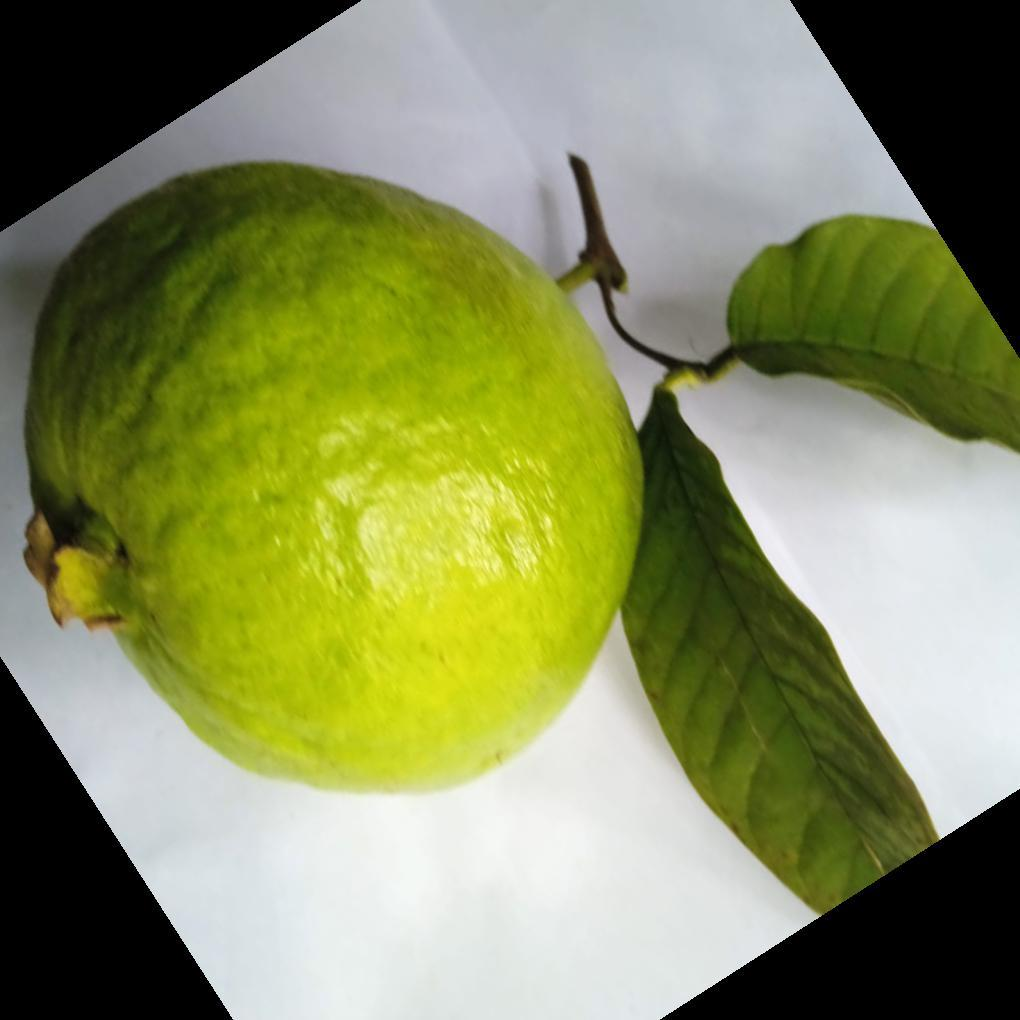FreshGuava: (20, 161, 644, 798)
